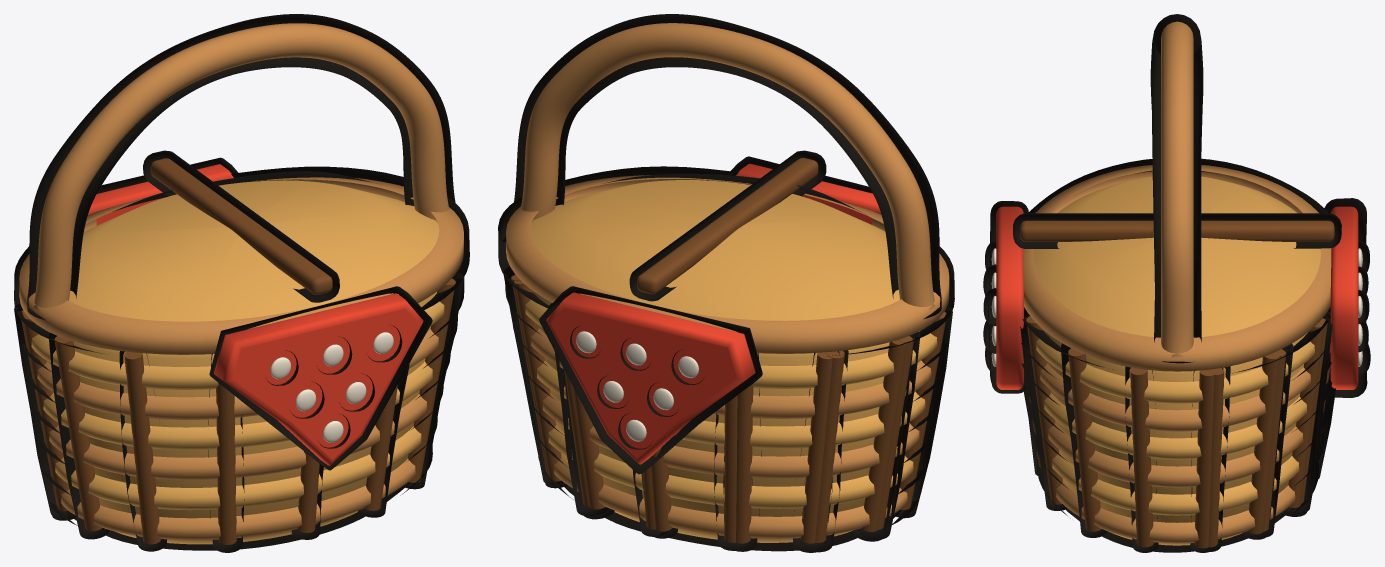
Rendered from basket.glb.
3 views of the same model, side by side, from view 1: azimuth 30°, elevation 25°; view 2: azimuth 150°, elevation 25°; view 3: azimuth 270°, elevation 25° (orthographic). The views are drawn at different scales.
Parts seen in each view (by area): view 1: Basket, Basket_outline; view 2: Basket, Basket_outline; view 3: Basket, Basket_outline.
Part boxes in pixels (x1,y1,x2,y2): Basket: [19, 23, 463, 544]; Basket_outline: [14, 14, 469, 552]; Basket: [506, 23, 949, 543]; Basket_outline: [498, 14, 954, 552]; Basket: [991, 21, 1362, 548]; Basket_outline: [983, 14, 1370, 552].
Bounding box in the file's own units: 1.85 × 1.98 × 1.55.
